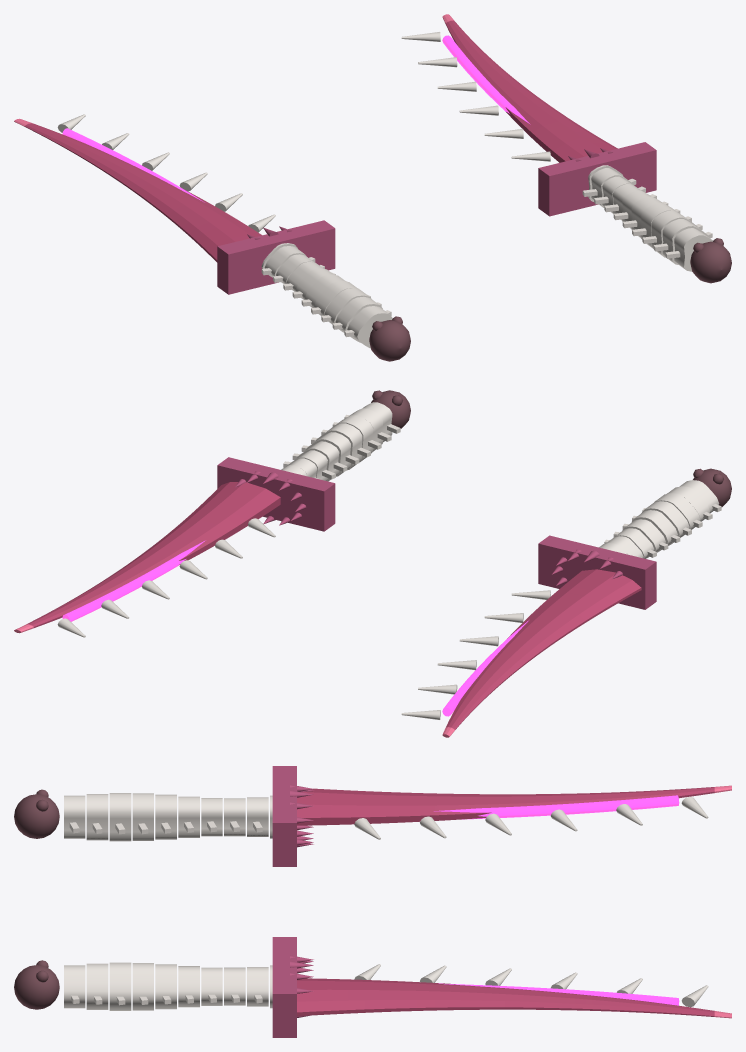
The model's file is art_crimson_carnage.fbx.
3 renders of one model, top to bottom at view 1: azimuth 30°, elevation 25°; view 2: azimuth 150°, elevation 25°; view 3: azimuth 270°, elevation 25°, orthographic. The views are drawn at different scales.
Visible parts, largest first — view 1: BladeL, HandleL, Handle, Blade, Crossguard, CrossguardL, BackSpike, Pommel, PommelL, BackSpikeL, RuneInlay, RuneInlayL; view 2: BladeL, Blade, HandleL, Handle, Crossguard, CrossguardL, BackSpikeL, BackSpike, RuneInlay, Pommel, PommelL, RuneInlayL; view 3: Blade, Handle, HandleL, BladeL, CrossguardL, Crossguard, RuneInlayL, Pommel, PommelL, BackSpikeL, BackSpike, RuneInlay.
Boxes of the visible parts, x1,y1,x2,y2 form: BladeL: [24, 123, 261, 262]; HandleL: [261, 243, 392, 348]; Handle: [582, 165, 712, 271]; Blade: [445, 20, 617, 162]; Crossguard: [538, 142, 656, 216]; CrossguardL: [217, 220, 335, 294]; BackSpike: [401, 32, 550, 161]; Pommel: [690, 238, 731, 283]; PommelL: [369, 316, 410, 361]; BackSpikeL: [57, 114, 275, 232]; RuneInlay: [442, 35, 530, 124]; RuneInlayL: [62, 128, 204, 202]; BladeL: [446, 569, 641, 729]; Blade: [27, 482, 280, 627]; HandleL: [599, 480, 721, 558]; Handle: [281, 402, 400, 481]; Crossguard: [217, 457, 335, 531]; CrossguardL: [538, 535, 656, 609]; BackSpikeL: [401, 590, 550, 719]; BackSpike: [57, 518, 275, 637]; RuneInlay: [62, 540, 205, 621]; Pommel: [371, 390, 410, 428]; PommelL: [693, 468, 731, 506]; RuneInlayL: [442, 620, 528, 716]; Blade: [297, 978, 714, 1016]; Handle: [64, 962, 272, 1010]; HandleL: [64, 793, 272, 841]; BladeL: [297, 787, 714, 825]; CrossguardL: [272, 766, 313, 866]; Crossguard: [272, 937, 313, 1037]; RuneInlayL: [434, 795, 679, 819]; Pommel: [14, 960, 59, 1009]; PommelL: [14, 789, 59, 838]; BackSpikeL: [354, 796, 708, 839]; BackSpike: [354, 964, 708, 1007]; RuneInlay: [438, 983, 679, 1005].
Bounding box in the file's own units: 204 × 21.04 × 266.
